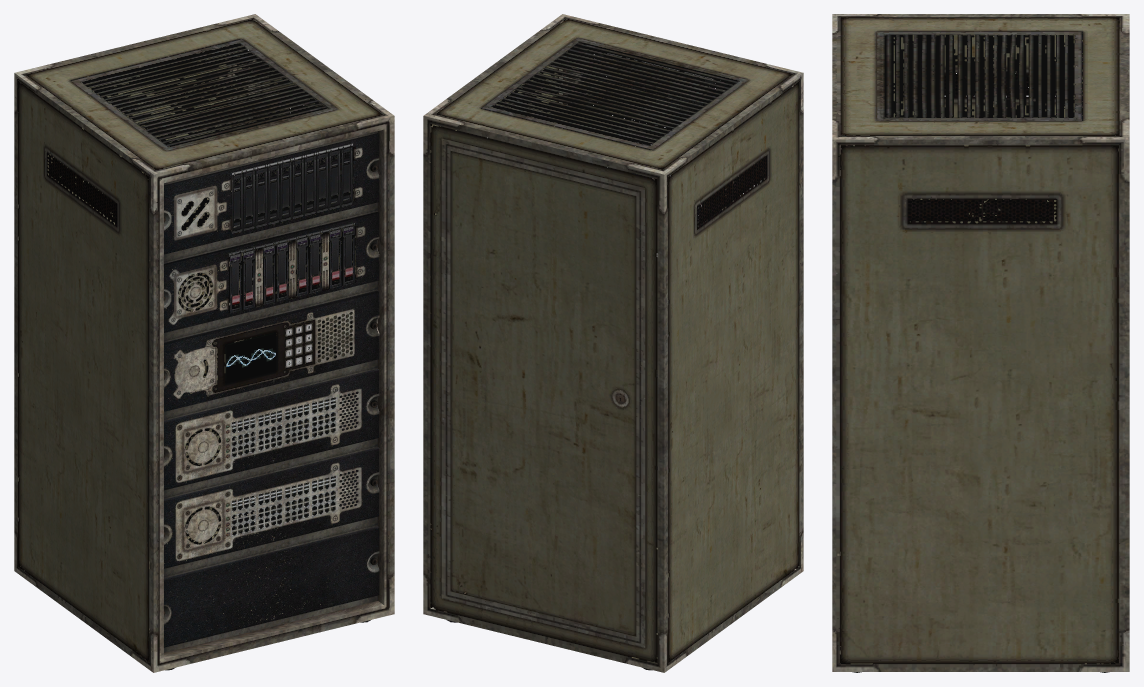
Rendered from server_rack03.dae.
3 views of the same model, side by side, from view 1: azimuth 30°, elevation 25°; view 2: azimuth 150°, elevation 25°; view 3: azimuth 270°, elevation 25° (orthographic). The views are drawn at different scales.
Parts seen in each view (by area): view 1: polySurface68, pPlane2; view 2: polySurface68; view 3: polySurface68.
Part boxes in pixels (x1,y1,x2,y2): polySurface68: (14,14,394,672); pPlane2: (226,333,275,382); polySurface68: (423,14,803,672); polySurface68: (832,14,1129,672).
Bounding box in the file's own units: 1.13 × 2.25 × 1.13.
